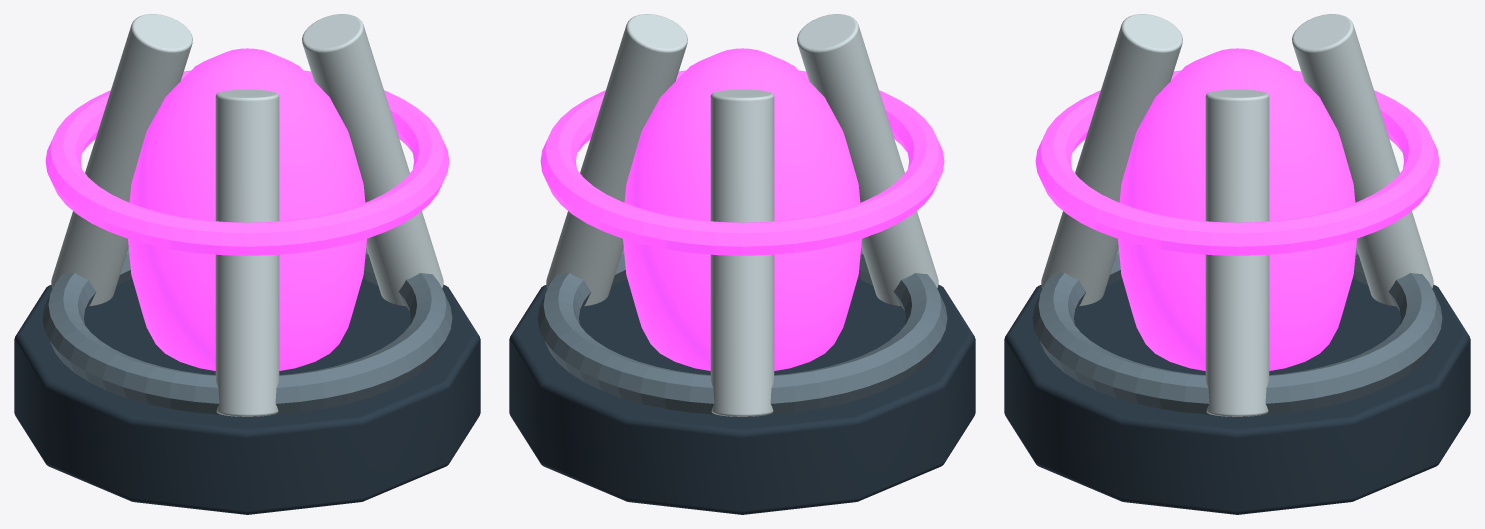
Rendered from ShieldEmitter.fbx.
3 renders of one model, left to right at view 1: azimuth 30°, elevation 25°; view 2: azimuth 150°, elevation 25°; view 3: azimuth 270°, elevation 25°, orthographic.
Parts seen in each view (by area): view 1: Armored rotating base.005, Shield crystal.002, Containment ring.002, Bearing race.005, Magnetic arm.008, Magnetic arm.006, Magnetic arm.007; view 2: Armored rotating base.005, Shield crystal.002, Containment ring.002, Bearing race.005, Magnetic arm.007, Magnetic arm.006, Magnetic arm.008; view 3: Armored rotating base.005, Shield crystal.002, Containment ring.002, Bearing race.005, Magnetic arm.006, Magnetic arm.007, Magnetic arm.008.
Boxes of the visible parts, x1,y1,x2,y2 form: Armored rotating base.005: [14, 279, 480, 514]; Shield crystal.002: [128, 48, 366, 370]; Containment ring.002: [45, 70, 449, 255]; Bearing race.005: [42, 248, 452, 414]; Magnetic arm.008: [215, 89, 279, 416]; Magnetic arm.006: [302, 14, 443, 305]; Magnetic arm.007: [51, 14, 192, 305]; Armored rotating base.005: [509, 279, 975, 514]; Shield crystal.002: [623, 48, 861, 370]; Containment ring.002: [540, 70, 944, 255]; Bearing race.005: [537, 248, 947, 414]; Magnetic arm.007: [710, 89, 774, 416]; Magnetic arm.006: [546, 14, 687, 305]; Magnetic arm.008: [797, 14, 938, 305]; Armored rotating base.005: [1004, 279, 1470, 514]; Shield crystal.002: [1118, 48, 1356, 370]; Containment ring.002: [1035, 70, 1439, 255]; Bearing race.005: [1032, 248, 1442, 414]; Magnetic arm.006: [1205, 89, 1269, 416]; Magnetic arm.007: [1292, 14, 1433, 305]; Magnetic arm.008: [1041, 14, 1182, 305].
Bounding box in the file's own units: 124 × 110 × 124.
